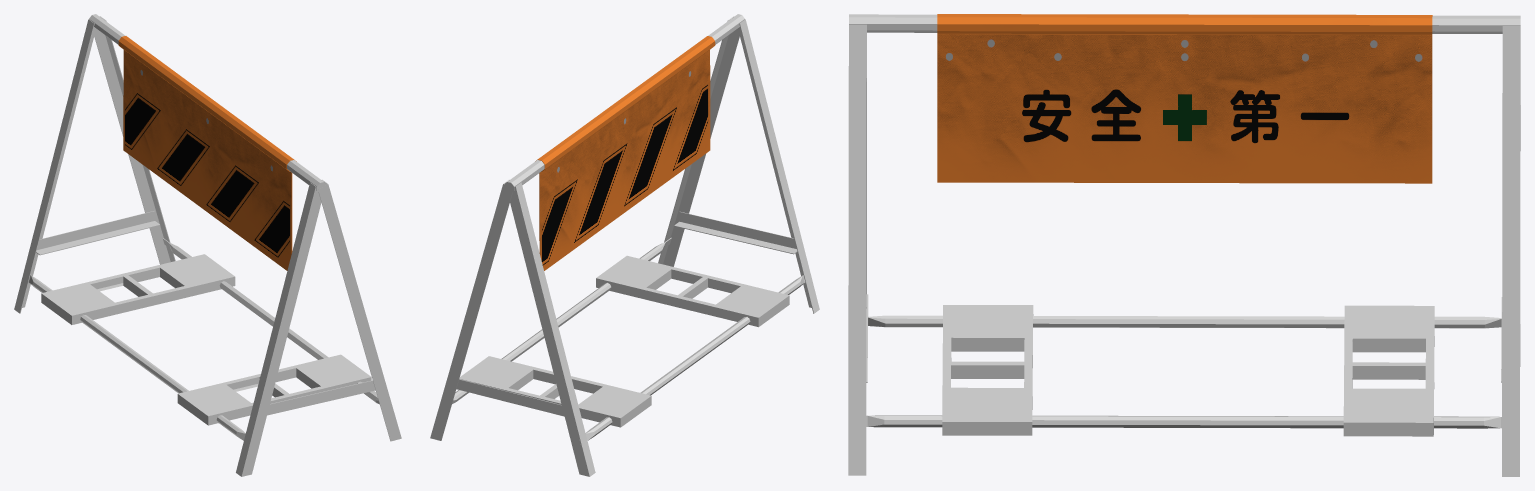
The model's file is Preset_Barricade_TypeA.fbx.
3 views of the same model, side by side, from view 1: azimuth 30°, elevation 25°; view 2: azimuth 150°, elevation 25°; view 3: azimuth 270°, elevation 25° (orthographic). The views are drawn at different scales.
Visible parts, largest first — view 1: Sign_Sheet, Frame_H, Frame_VL, Frame_VR; view 2: Sign_Sheet, Frame_H, Frame_VR, Frame_VL; view 3: Sign_Sheet, Frame_H, Frame_VL, Frame_VR.
Part boxes in pixels (x1,y1,x2,y2): Sign_Sheet: (118,36,296,270); Frame_H: (28,14,379,440); Frame_VL: (236,179,401,476); Frame_VR: (14,16,175,313); Sign_Sheet: (535,36,715,270); Frame_H: (452,14,805,445); Frame_VR: (430,179,595,476); Frame_VL: (658,16,819,313); Sign_Sheet: (937,14,1432,183); Frame_H: (849,14,1520,436); Frame_VL: (848,24,866,475); Frame_VR: (1502,26,1520,476).
Size of the model in its own units: 49.3 by 120 by 79.25.
2 materials, 1 textured.
